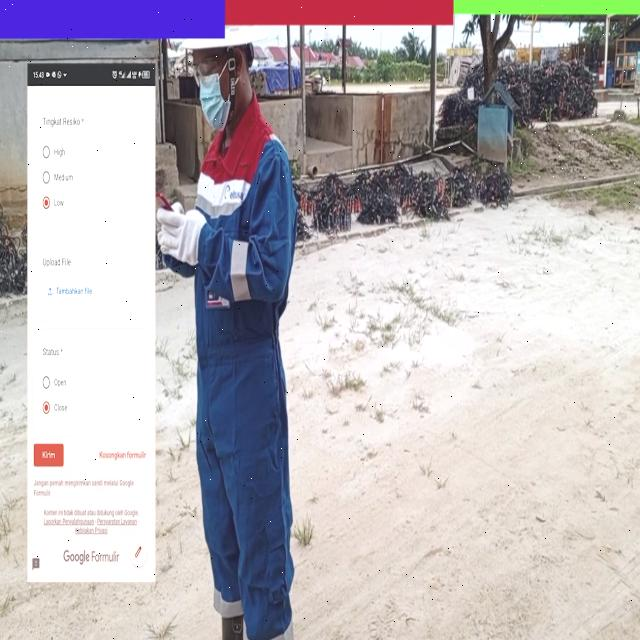Gloves: (157, 204, 205, 265)
Mask: (200, 79, 232, 132)
Overall Suit: (192, 112, 294, 640)
Safety Boots: (218, 614, 247, 640)
